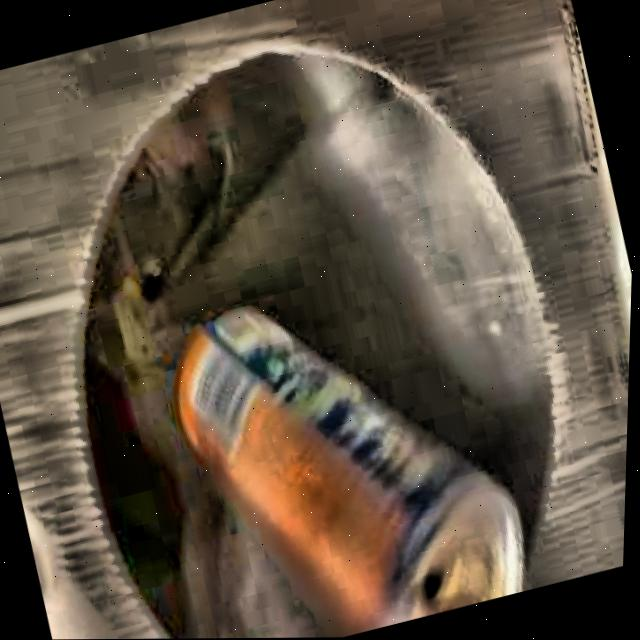metal: (177, 310, 527, 638)
